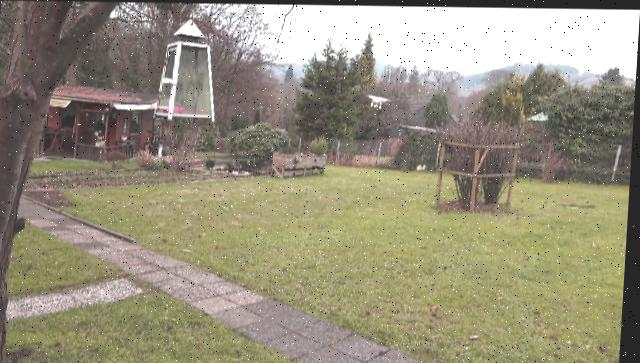drone: (364, 89, 392, 108)
